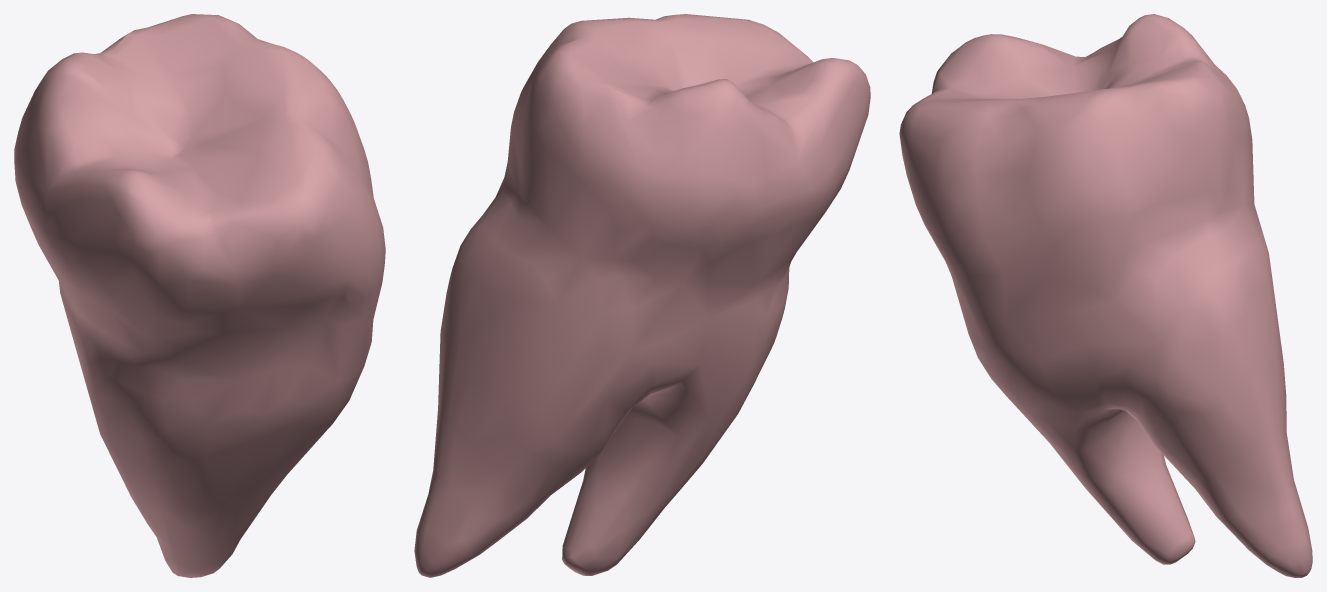
Rendered from fma55704_fj1254.glb.
3 views of the same model, side by side, from view 1: azimuth 30°, elevation 25°; view 2: azimuth 150°, elevation 25°; view 3: azimuth 270°, elevation 25° (orthographic). The views are drawn at different scales.
Parts seen in each view (by area): view 1: FMA55704_FJ1254; view 2: FMA55704_FJ1254; view 3: FMA55704_FJ1254.
Part boxes in pixels (bbox=[...]): FMA55704_FJ1254: bbox=[14, 14, 385, 577]; FMA55704_FJ1254: bbox=[414, 14, 870, 577]; FMA55704_FJ1254: bbox=[899, 14, 1312, 577].
Bounding box in the file's own units: 0.0123 × 0.0197 × 0.0151.
